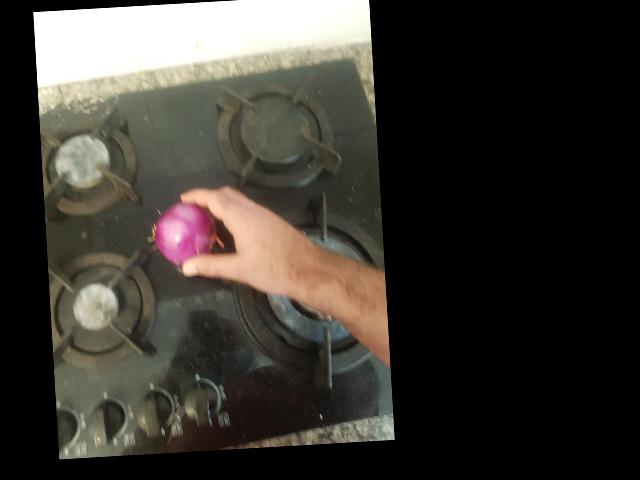onion: (109, 114, 180, 184)
